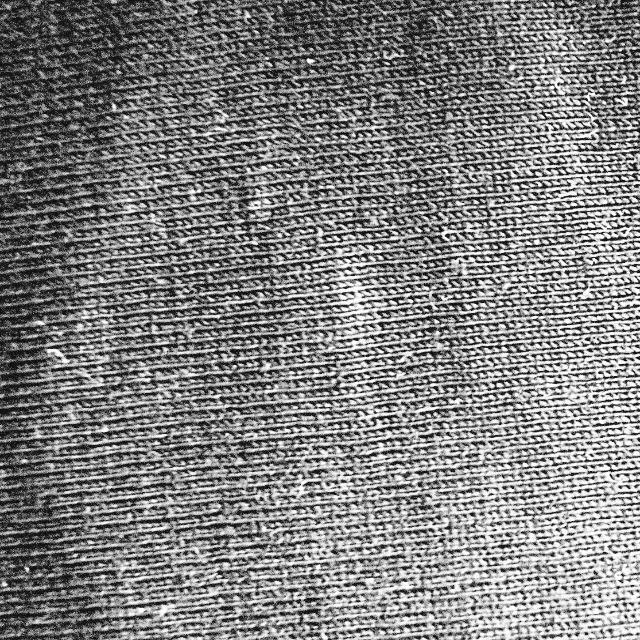Color_defect: (316, 253, 381, 349)
